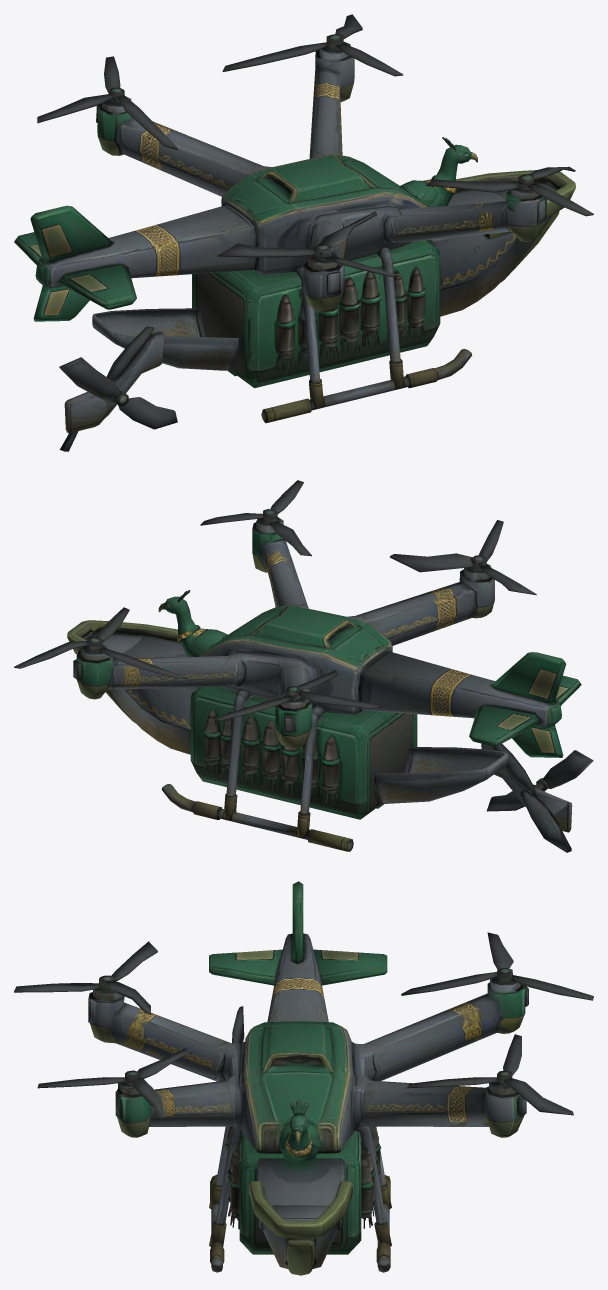
File: plantation_bomber.glb
3 renders of one model, top to bottom at view 1: azimuth 30°, elevation 25°; view 2: azimuth 150°, elevation 25°; view 3: azimuth 270°, elevation 25°, orthographic. The views are drawn at different scales.
Visible parts, largest first — view 1: Body; view 2: Body; view 3: Body.
Part boxes in pixels (x1=…): Body: x1=14, y1=14, x2=593, y2=451; Body: x1=14, y1=480, x2=593, y2=852; Body: x1=14, y1=881, x2=593, y2=1275.
Size of the model in its own units: 2.5 by 1.01 by 2.4.
1 material, 1 textured.
